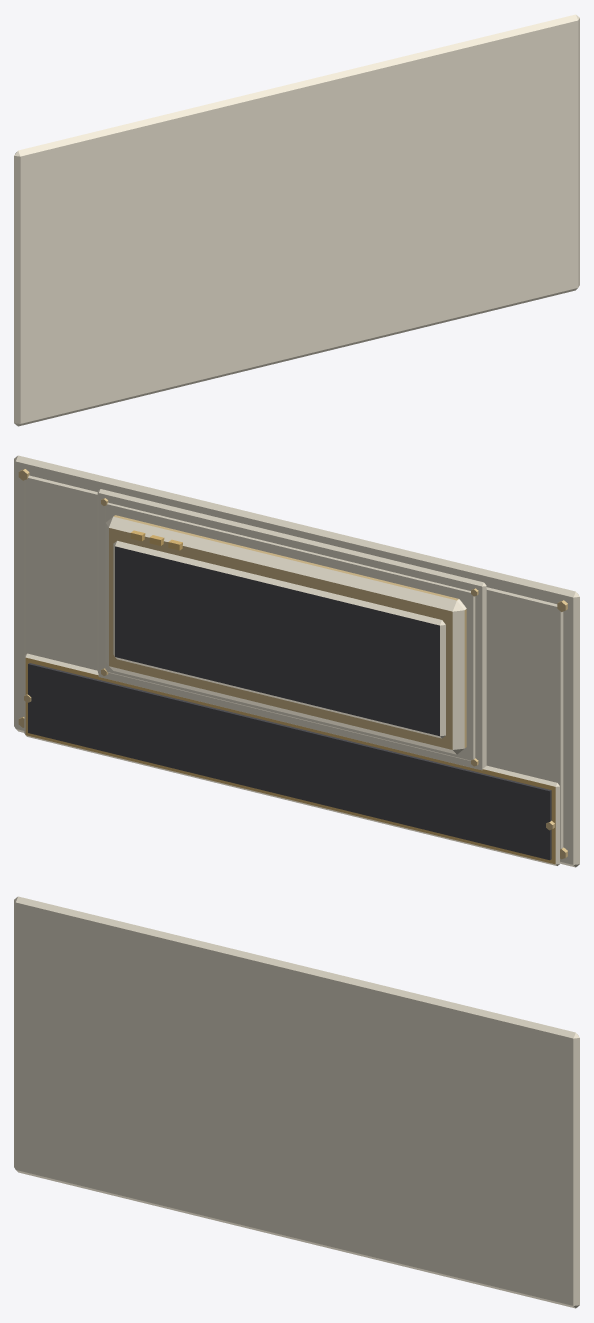
The model's file is Disp_Script_2x1.fbx.
The picture shows the model from 3 angles, top to bottom: view 1: azimuth 30°, elevation 25°; view 2: azimuth 150°, elevation 25°; view 3: azimuth 330°, elevation 25°; orthographic projection.
Parts seen in each view (by area): view 1: Disp_Script_2x1; view 2: Disp_Script_2x1; view 3: Disp_Script_2x1.
Boxes of the visible parts, bbox=[...] form: Disp_Script_2x1: bbox=[14, 14, 579, 426]; Disp_Script_2x1: bbox=[14, 455, 579, 867]; Disp_Script_2x1: bbox=[14, 896, 579, 1308].
Size of the model in its own units: 2.06 by 0.96 by 0.1381.
